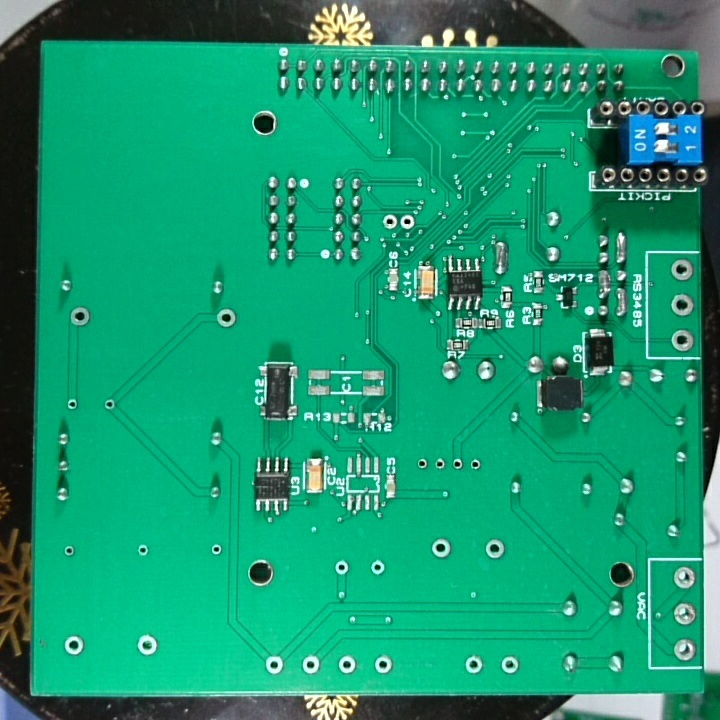F: (669, 327, 697, 354), (669, 256, 697, 283), (671, 636, 697, 665), (672, 600, 698, 629), (670, 291, 696, 320), (134, 632, 162, 658), (670, 564, 698, 590), (67, 303, 93, 330), (61, 632, 86, 660), (262, 652, 288, 677), (481, 538, 506, 563), (214, 305, 238, 331), (461, 653, 485, 678), (299, 652, 322, 678), (428, 537, 454, 560), (498, 653, 521, 678), (371, 652, 394, 675), (336, 651, 357, 675), (379, 212, 399, 232), (333, 558, 351, 578), (399, 212, 416, 233), (368, 557, 385, 578), (60, 542, 78, 561), (134, 542, 151, 560), (450, 455, 465, 475), (468, 455, 483, 475), (101, 395, 117, 413), (64, 396, 79, 415), (414, 455, 430, 472), (208, 541, 223, 558), (433, 455, 447, 472)
P: (491, 238, 511, 276), (594, 266, 614, 300), (614, 231, 631, 266), (614, 283, 629, 319)
